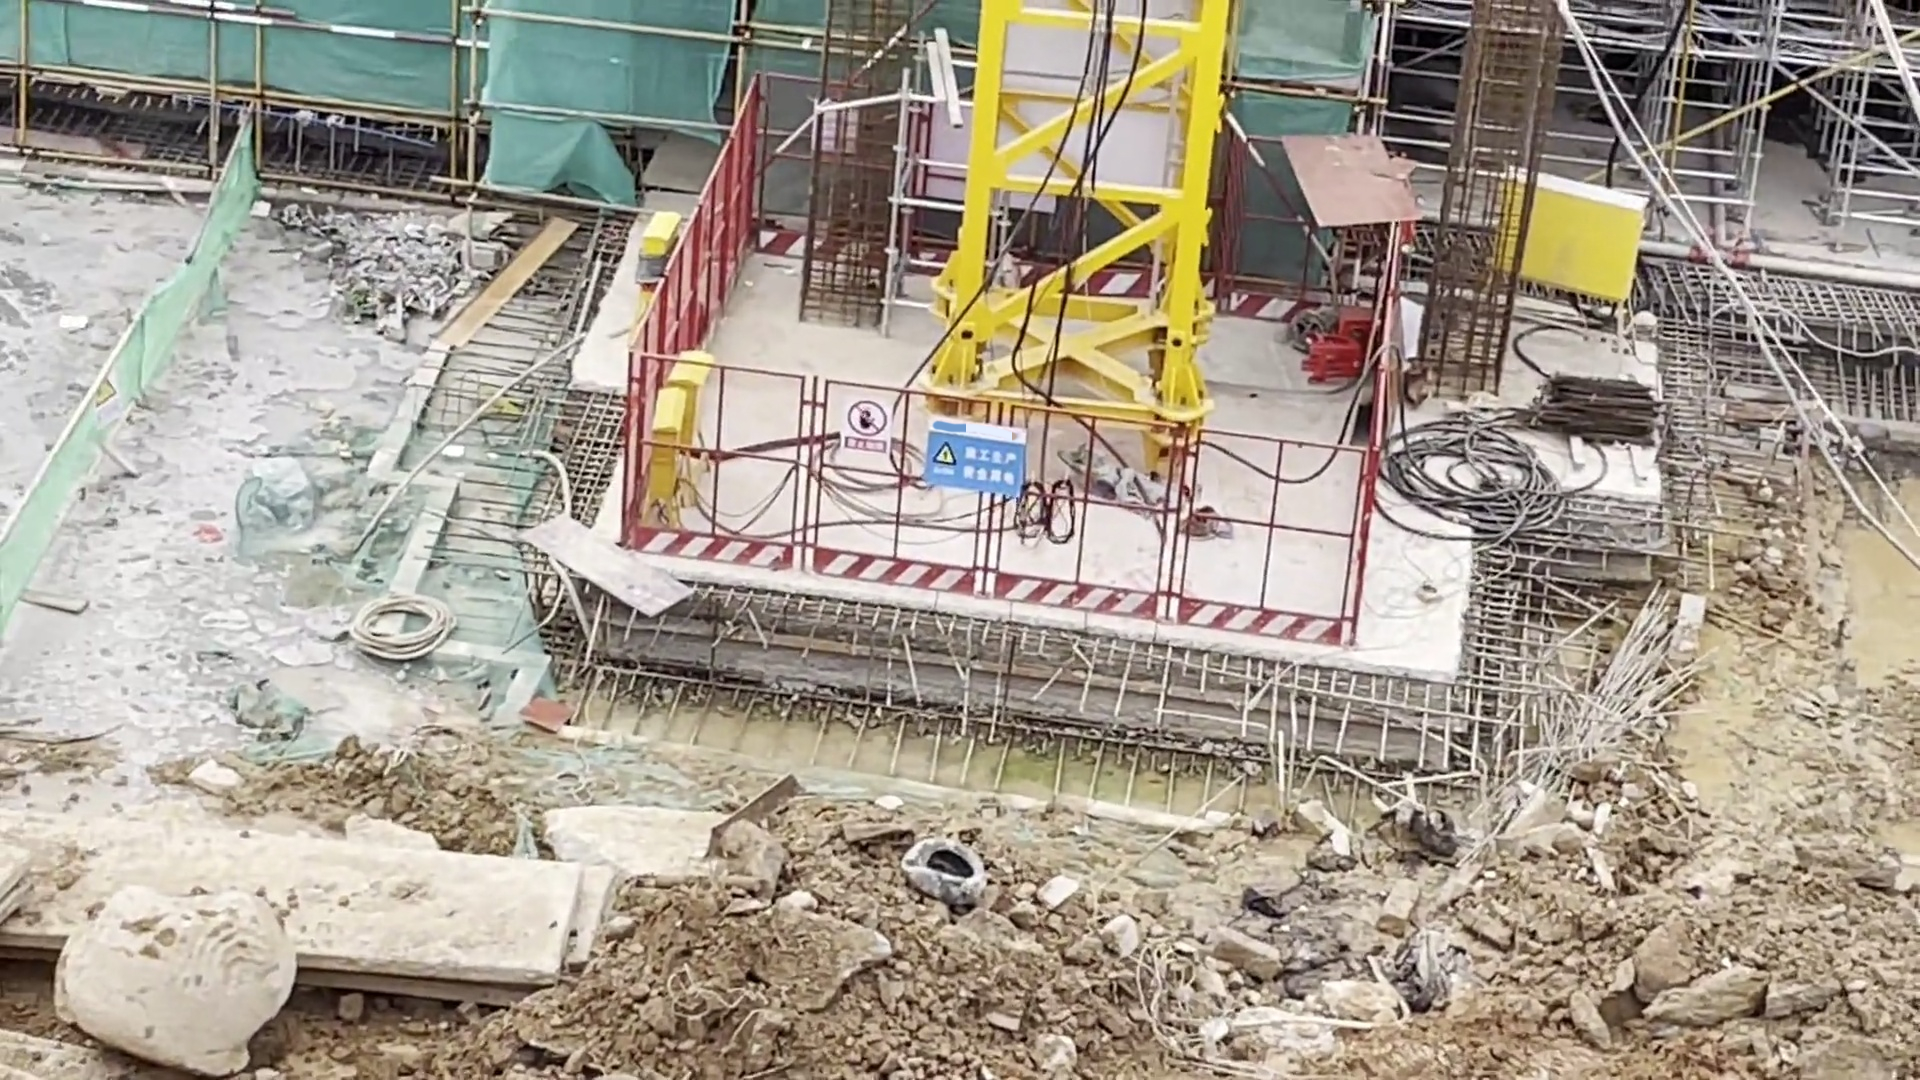ebox: (1501, 170, 1646, 331), (647, 345, 700, 505), (633, 218, 676, 301)
fence: (1005, 406, 1358, 647), (626, 100, 762, 531), (824, 386, 985, 600), (640, 356, 796, 564)
slogan: (924, 426, 1029, 488), (843, 402, 891, 454), (96, 368, 117, 410)
